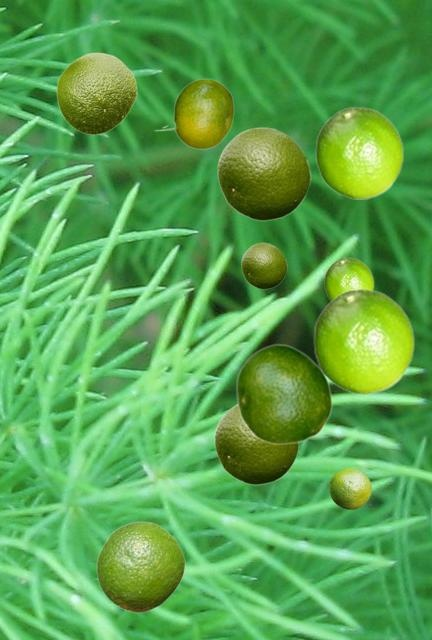calamansi: (313, 288, 414, 393), (235, 343, 332, 444), (217, 126, 310, 220), (315, 106, 403, 198), (96, 521, 184, 612), (214, 404, 298, 484), (56, 52, 136, 134), (153, 78, 233, 148), (324, 257, 373, 300), (241, 242, 286, 288), (329, 468, 370, 508)
